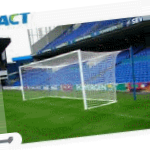goals: (18, 47, 120, 113)
